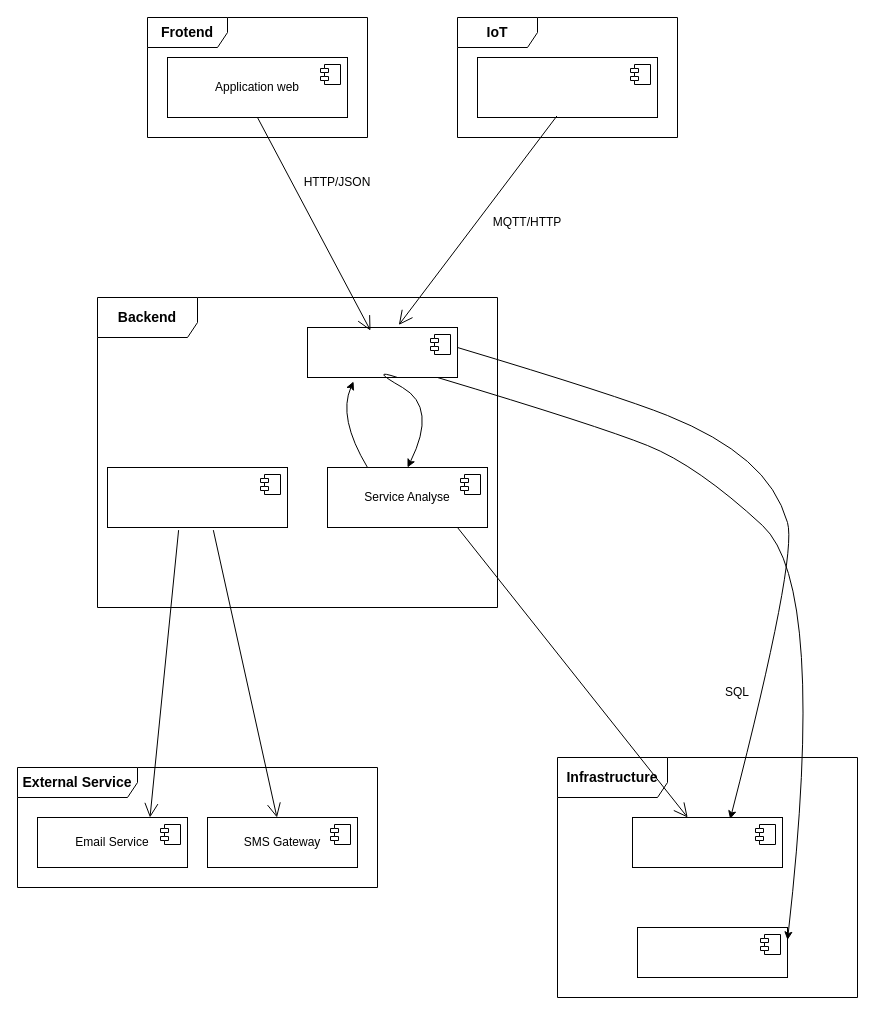
Image size: 875x1015. Some labels were removed from this diagram. Here are the shapes that lost their labels. From the top down, the centre of each, then its label:
At (x=567, y=87): "capteurs".
At (x=382, y=352): "API REST".
At (x=197, y=497): "Service Notification".
At (x=707, y=842): "Base de donnees".
At (x=712, y=952): "Cloud Plateform".
